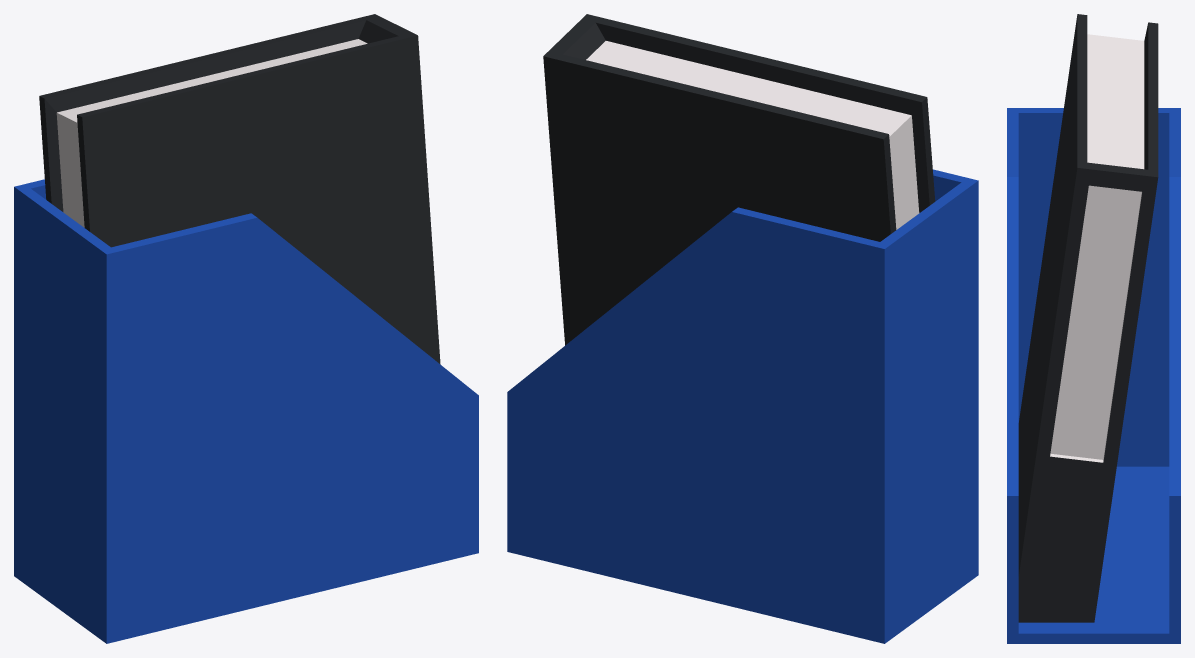
File: Doc_Folder.fbx
The picture shows the model from 3 angles, left to right: view 1: azimuth 30°, elevation 25°; view 2: azimuth 150°, elevation 25°; view 3: azimuth 270°, elevation 25°; orthographic projection. The views are drawn at different scales.
Visible parts, largest first — view 1: Doc_Folder_Box; view 2: Doc_Folder_Box; view 3: Doc_Folder_Box.
Part boxes in pixels (left/top/right/bottom): Doc_Folder_Box: left=14, top=14, right=478, bottom=643; Doc_Folder_Box: left=507, top=14, right=978, bottom=643; Doc_Folder_Box: left=1007, top=14, right=1180, bottom=643.
Bounding box in the file's own units: 77.66 × 98.91 × 33.45.
